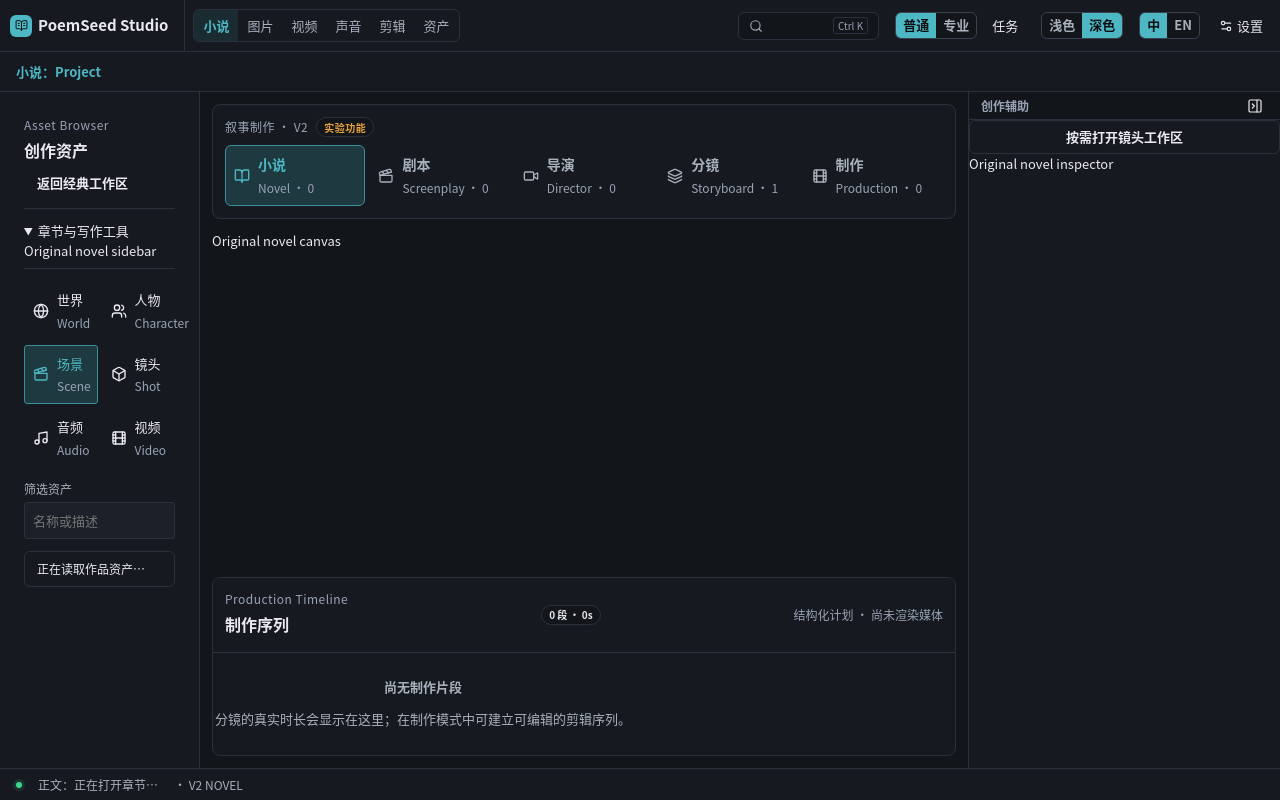
Test case: Creative current document save-state ownership › does not invent a content change for equivalent numeric editing
Click the tab "分镜 Storyboard · 1": point(728, 176) x1=658 y1=145 x2=799 y2=206
(page scrolled)
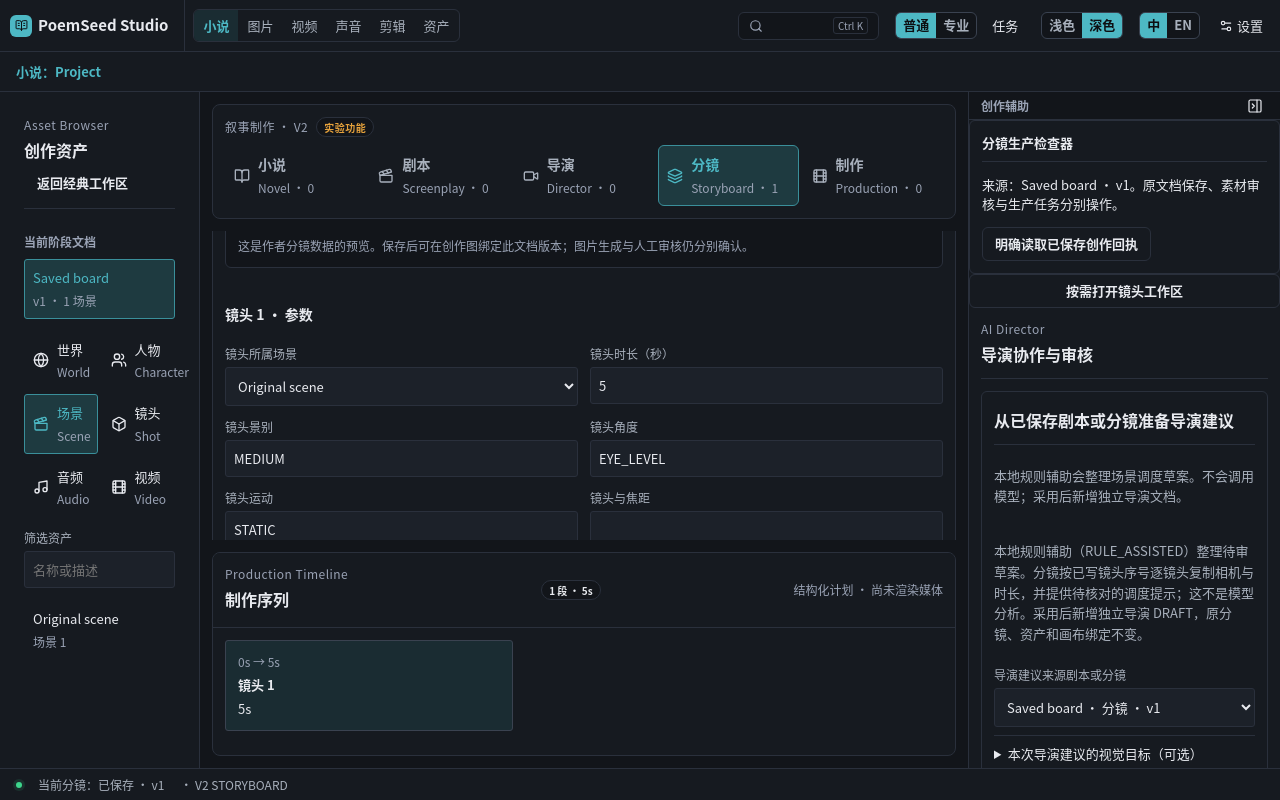
Replace the text in the number field labelled "镜头时长（秒）" with "5.0": point(766, 385) x1=590 y1=367 x2=943 y2=404
(page scrolled)
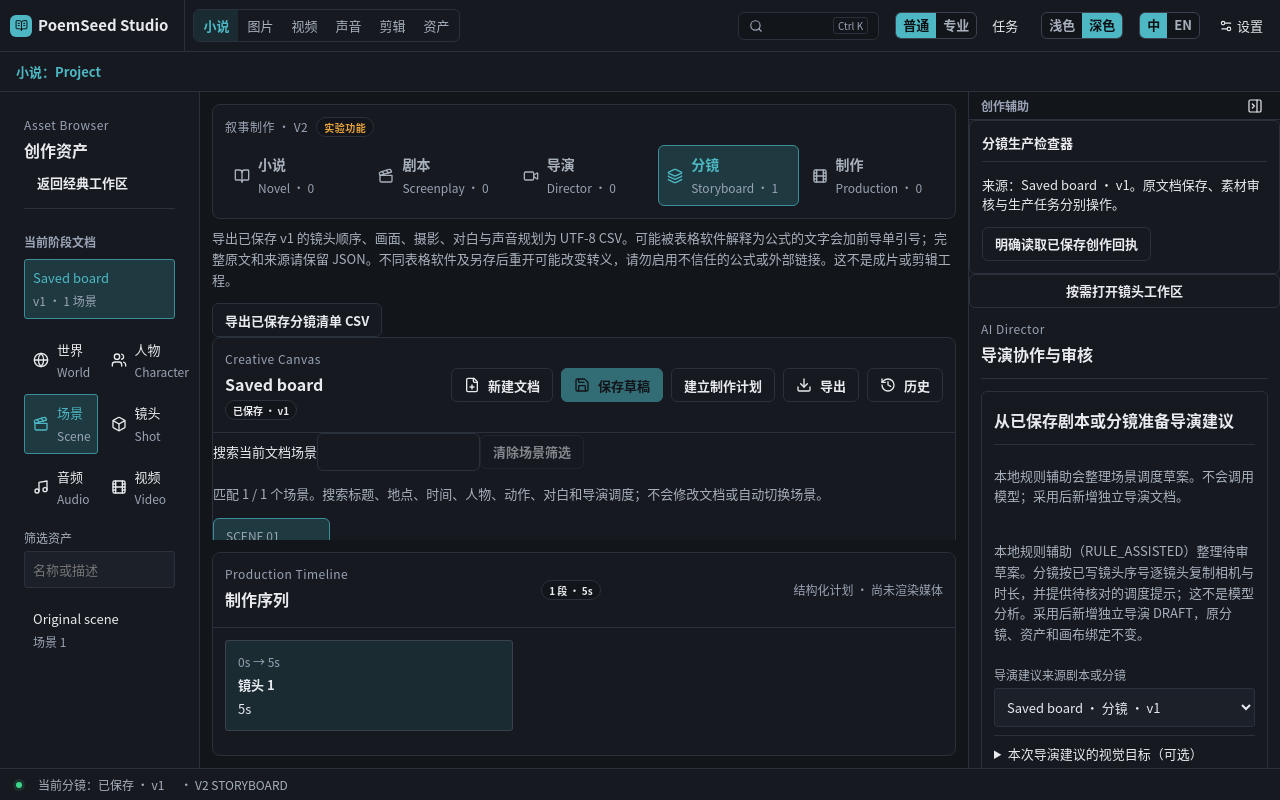
Expected: the text "已保存 · v1" is shown, x1=225 y1=400 x2=297 y2=420
Expected: the button "保存草稿" is disabled, x1=561 y1=368 x2=663 y2=402
